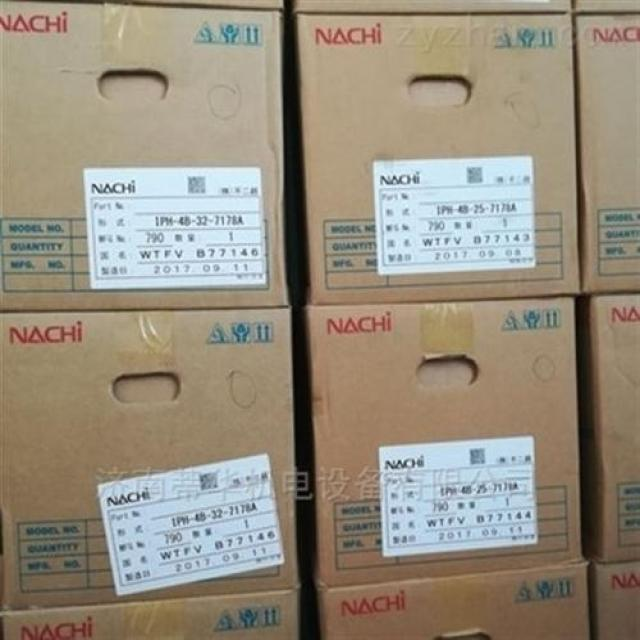box: (0, 307, 300, 611), (0, 0, 289, 311), (297, 12, 582, 299), (305, 296, 583, 587), (312, 560, 591, 639), (575, 12, 639, 294), (582, 296, 639, 563), (1, 590, 299, 638), (587, 547, 639, 638), (293, 1, 576, 15), (123, 0, 281, 13), (576, 0, 639, 17)
